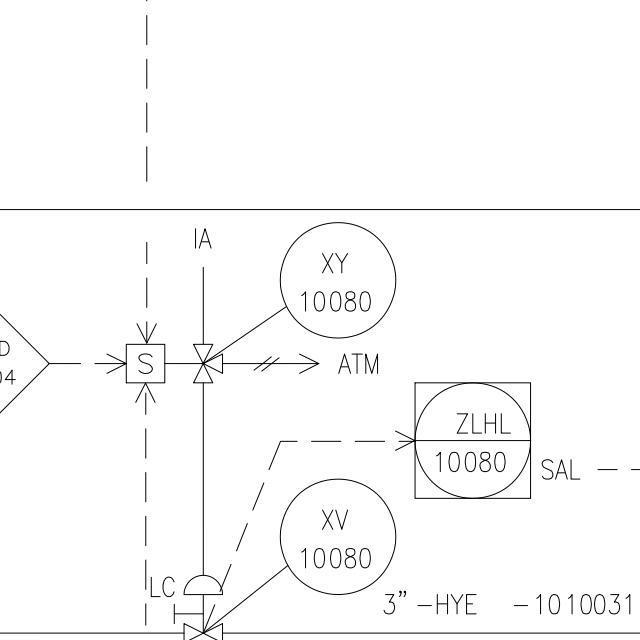3W: (188, 340, 227, 389)
FC: (180, 569, 225, 640)
SV: (117, 338, 215, 390)
